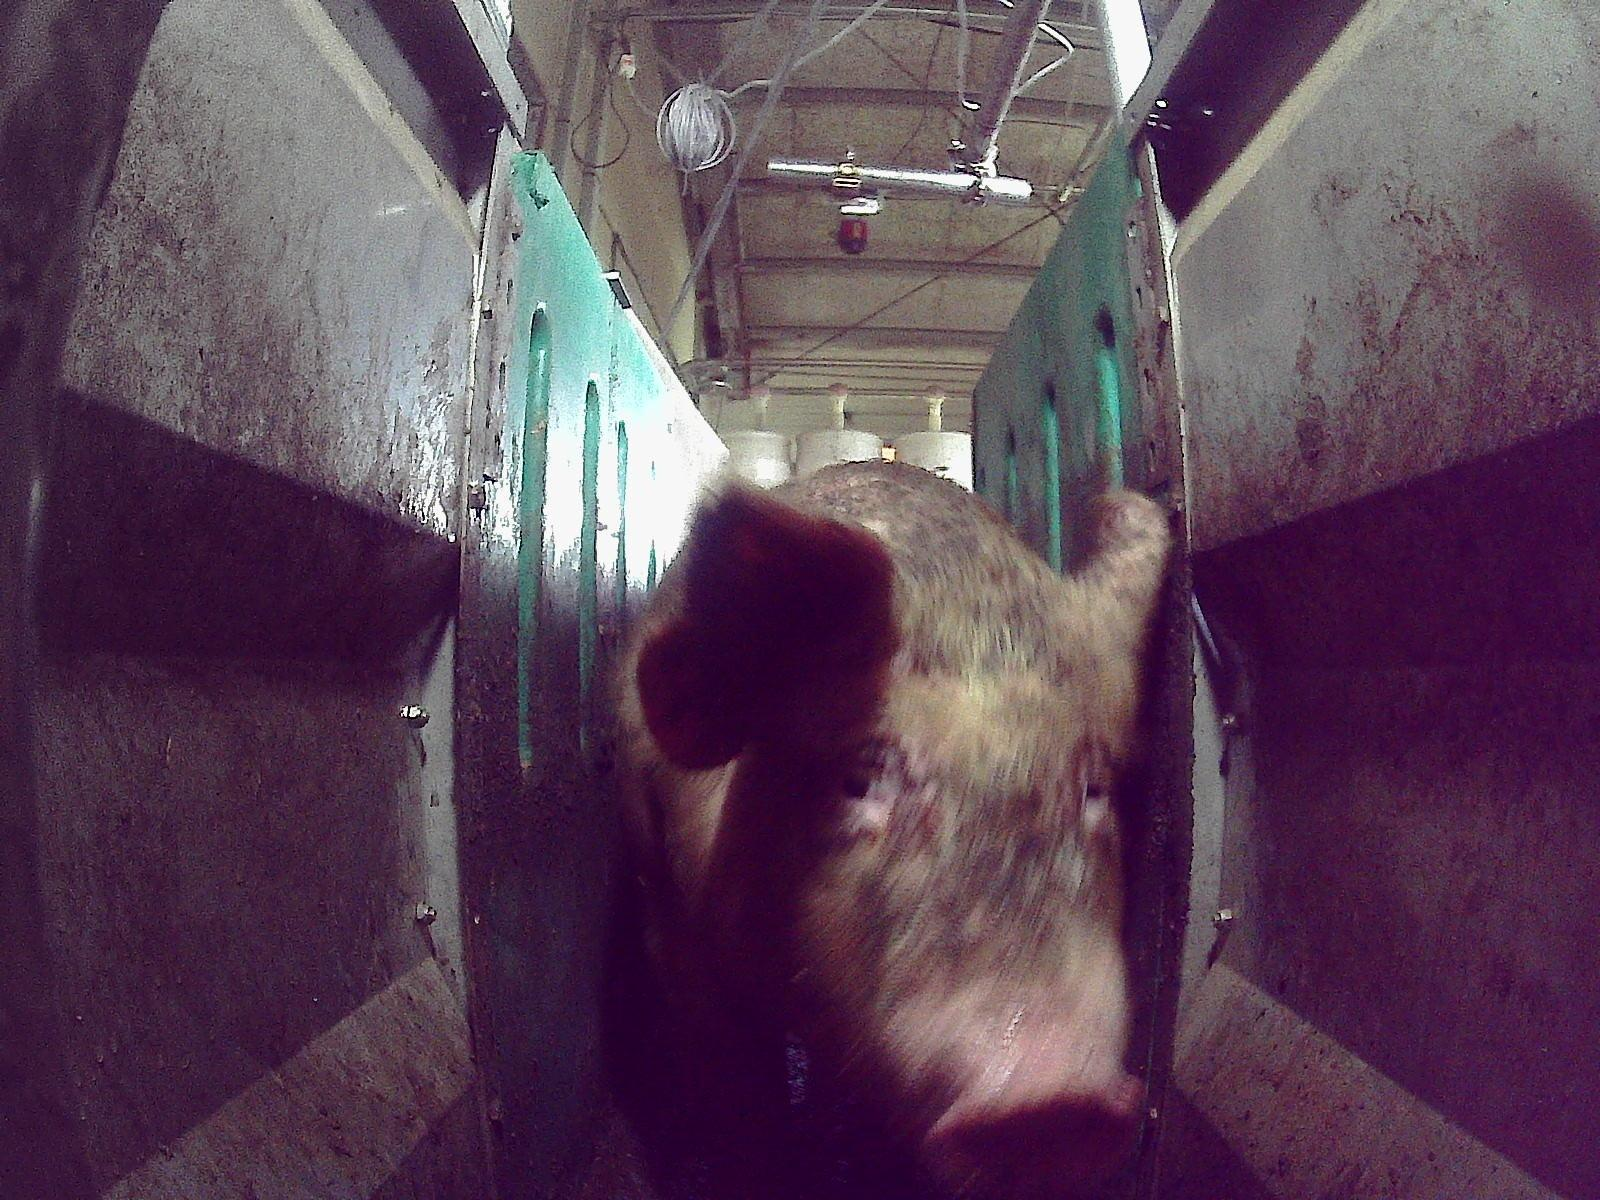Face: (750, 587, 1141, 1193)
